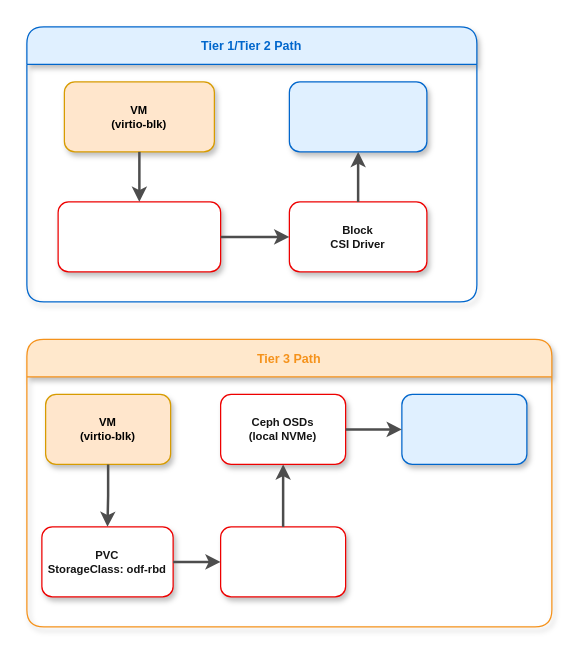
Some shapes in this 581 by 658 pixel diagram are drawn without their labels. The centre of each missing label's shape, as x and y in pixels:
Enterprise Storage Array FC SAN: [358,118]
Local NVMe (replica 3): [465,430]
PVC StorageClass: ibm-block: [140,238]
RBD Pool (replicated): [283,563]
